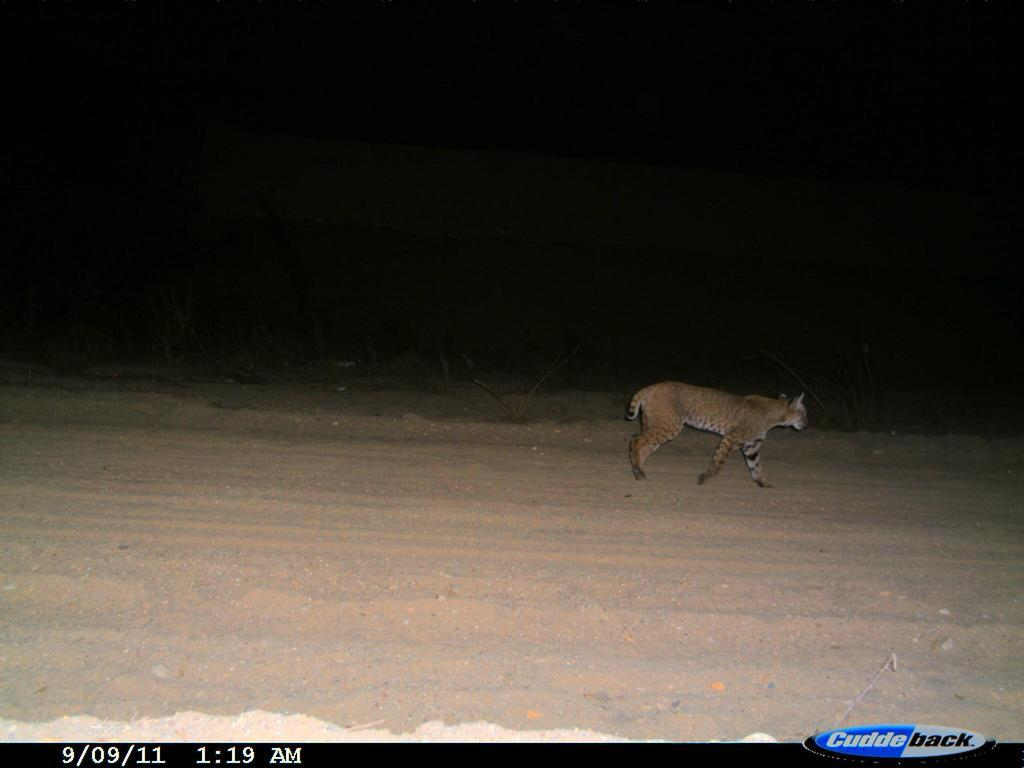bobcat: (626, 372, 818, 501)
